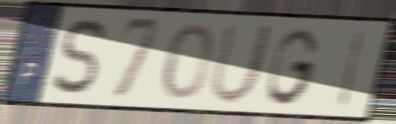7: (113, 13, 162, 103)
G: (264, 25, 322, 108)
I: (334, 27, 369, 111)
O: (161, 21, 215, 102)
S: (49, 16, 109, 98)
U: (206, 21, 277, 108)
